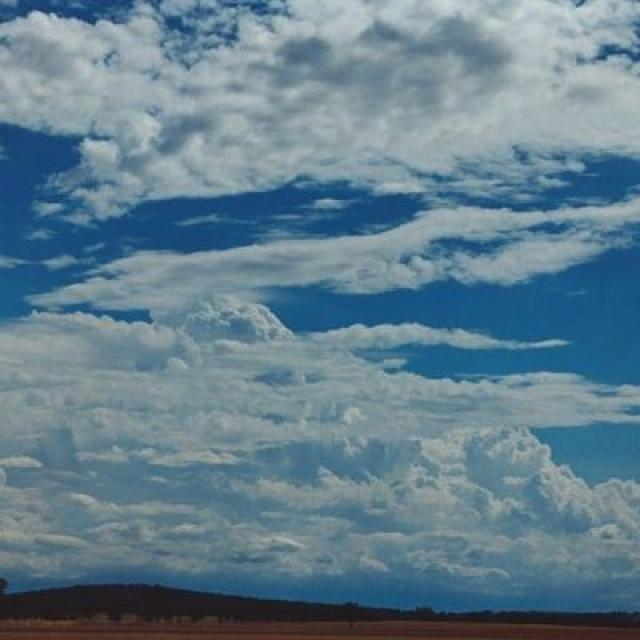Ac: (1, 33, 640, 559)
